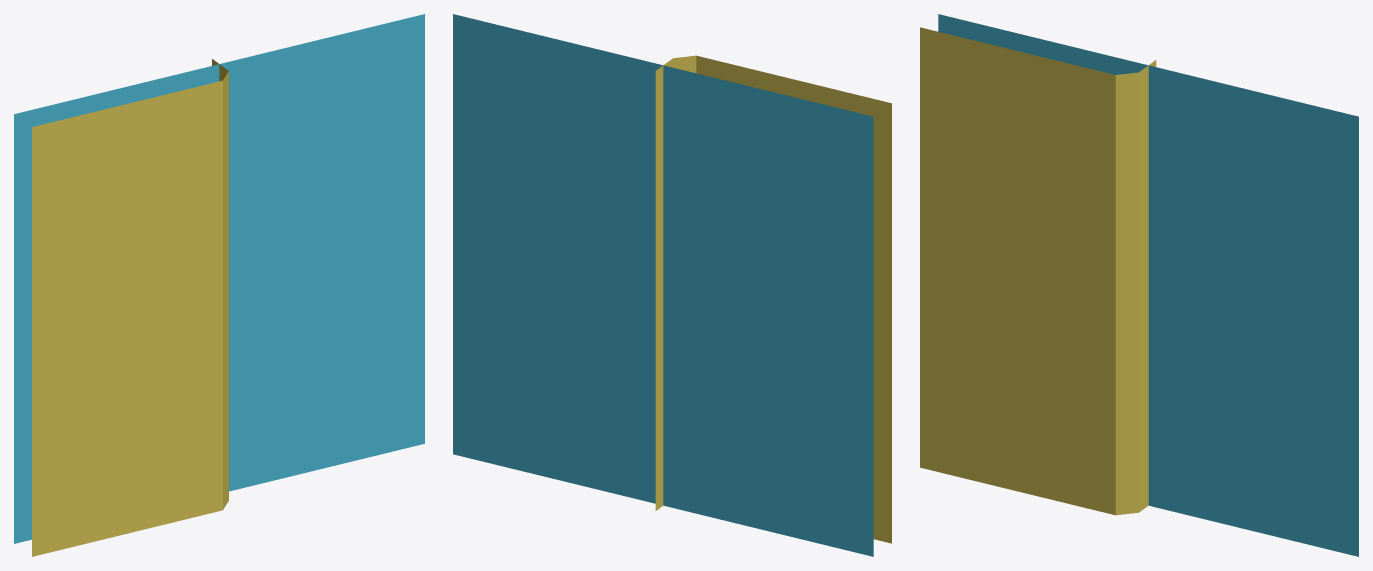
File: water3.glb
The picture shows the model from 3 angles, left to right: view 1: azimuth 30°, elevation 25°; view 2: azimuth 150°, elevation 25°; view 3: azimuth 330°, elevation 25°; orthographic projection. The views are drawn at different scales.
Parts seen in each view (by area): view 1: Plane.002, Plane.001; view 2: Plane.002, Plane.001; view 3: Plane.001, Plane.002.
Part boxes in pixels (x1,y1,x2,y2): Plane.002: (14, 14, 424, 543); Plane.001: (32, 59, 228, 556); Plane.002: (453, 14, 873, 556); Plane.001: (655, 55, 891, 543); Plane.001: (920, 27, 1156, 515); Plane.002: (938, 14, 1358, 556).
Size of the model in its own units: 2 by 2 by 0.214.
